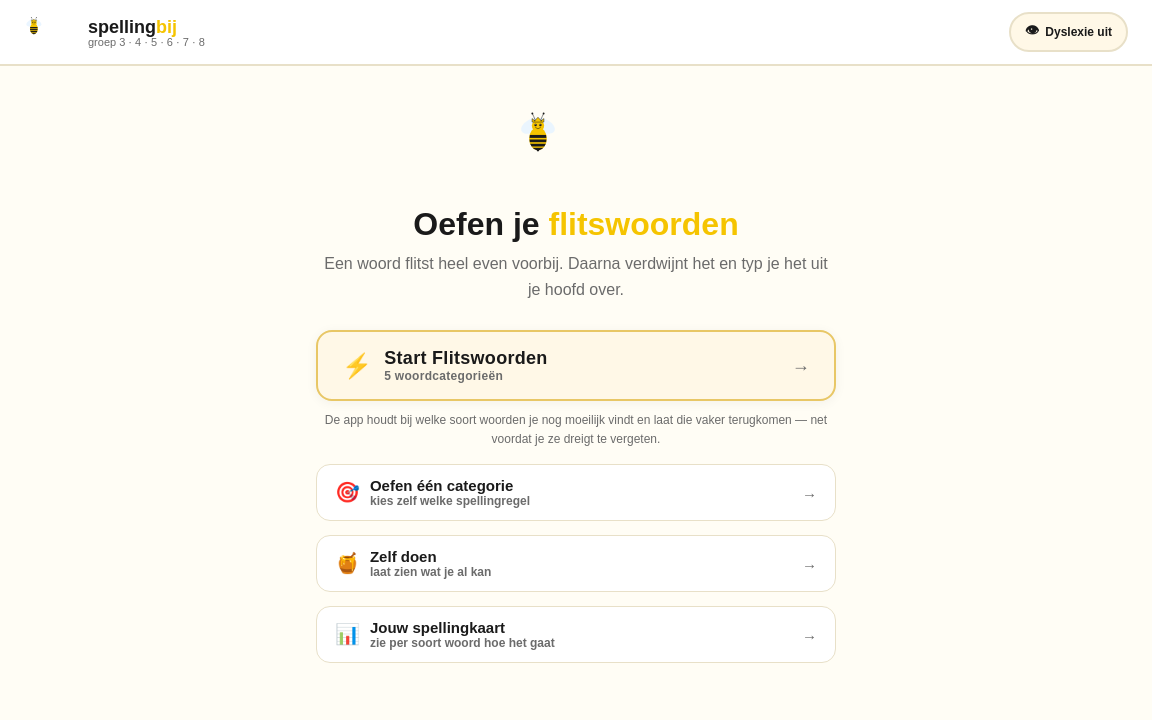
Scenario: de spellingkaart is leeg zolang er niet geoefend is
The image size is (1152, 720).
Click the text "Jouw spellingkaart zie per soort woord hoe het gaat".
click(462, 634)  # box [370,619,555,650]
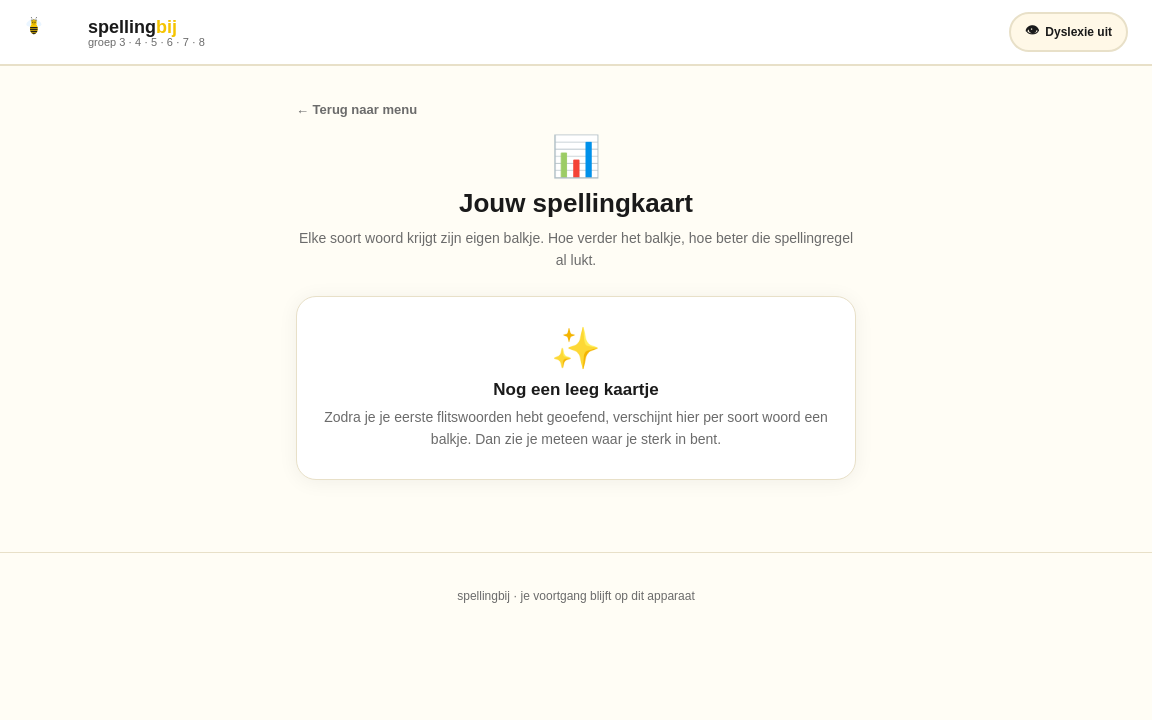
Result: the text "Nog een leeg kaartje" is shown at [493,380,659,399]
